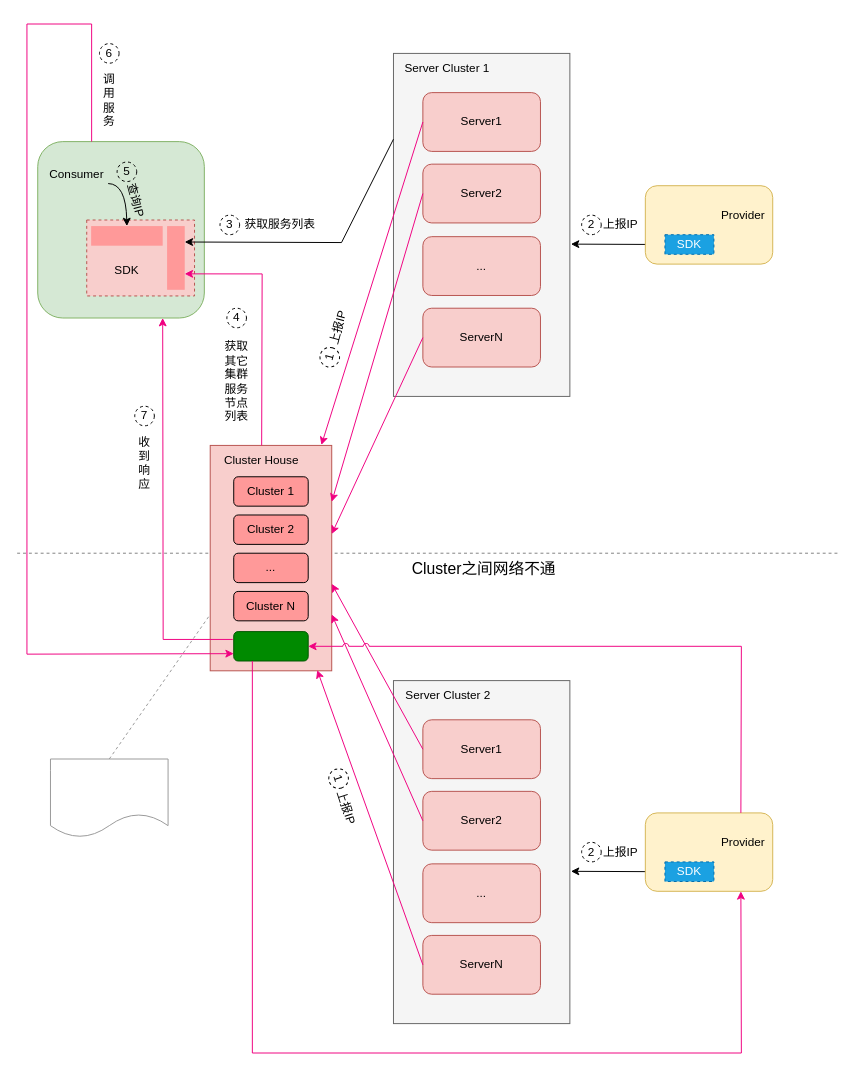
Some shapes in this 858 by 1078 pixel diagram are drawn without their labels. The box of each missing label's shape, as (x1, y1, x2, y2) in pixels:
Proxy: (233, 631, 308, 661)
支持多集群: (167, 226, 184, 289)
支持跨集群: (91, 226, 162, 245)
跨网络服务: (49, 758, 168, 837)
